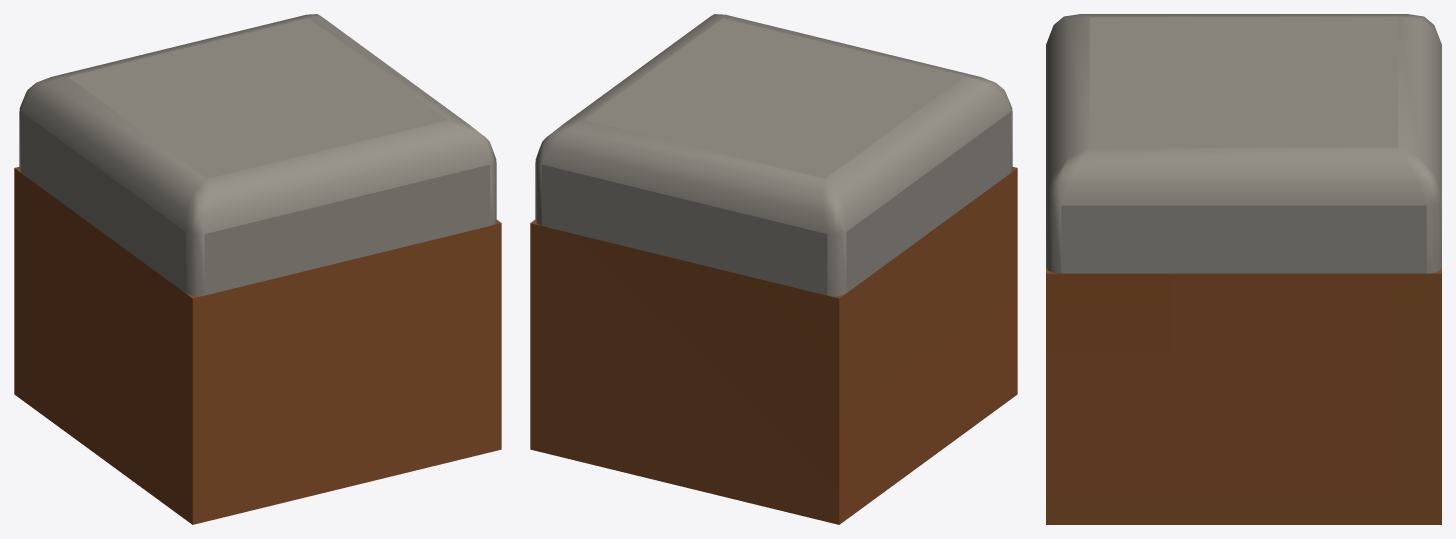
File: Terrain__path.glb
3 renders of one model, left to right at view 1: azimuth 30°, elevation 25°; view 2: azimuth 150°, elevation 25°; view 3: azimuth 270°, elevation 25°, orthographic. The views are drawn at different scales.
Parts seen in each view (by area): view 1: path_mesh; view 2: path_mesh; view 3: path_mesh.
Boxes of the visible parts, left/top/right/bottom form: path_mesh: left=14, top=14, right=501, bottom=524; path_mesh: left=530, top=14, right=1017, bottom=524; path_mesh: left=1046, top=14, right=1441, bottom=524.
Size of the model in its own units: 0.5 by 0.5 by 0.5.
